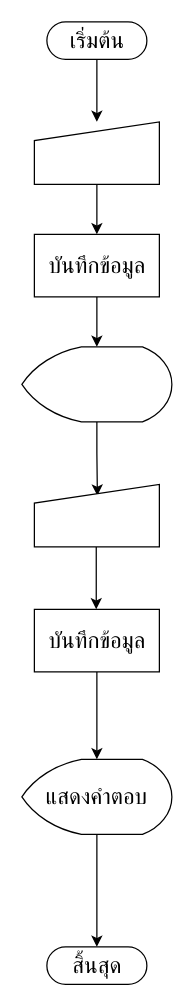
Image size: 194x1006. Some labels were removed from this diagram. Here are the shapes that lost their labels. From the top down, the centre of each, then its label:
pixel 96 152: ป้อนคำถาม
pixel 96 384: แสดงคำถาม
pixel 96 515: ป้อนคำตอบ
